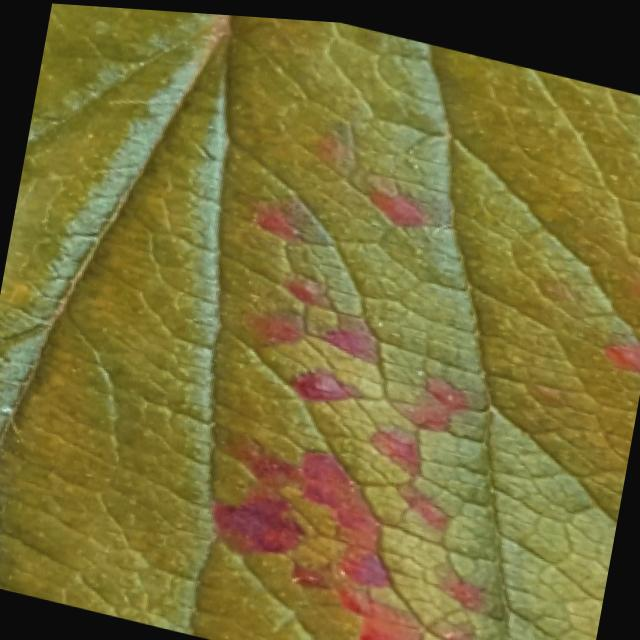Angular Leafspot: (170, 73, 640, 640)
